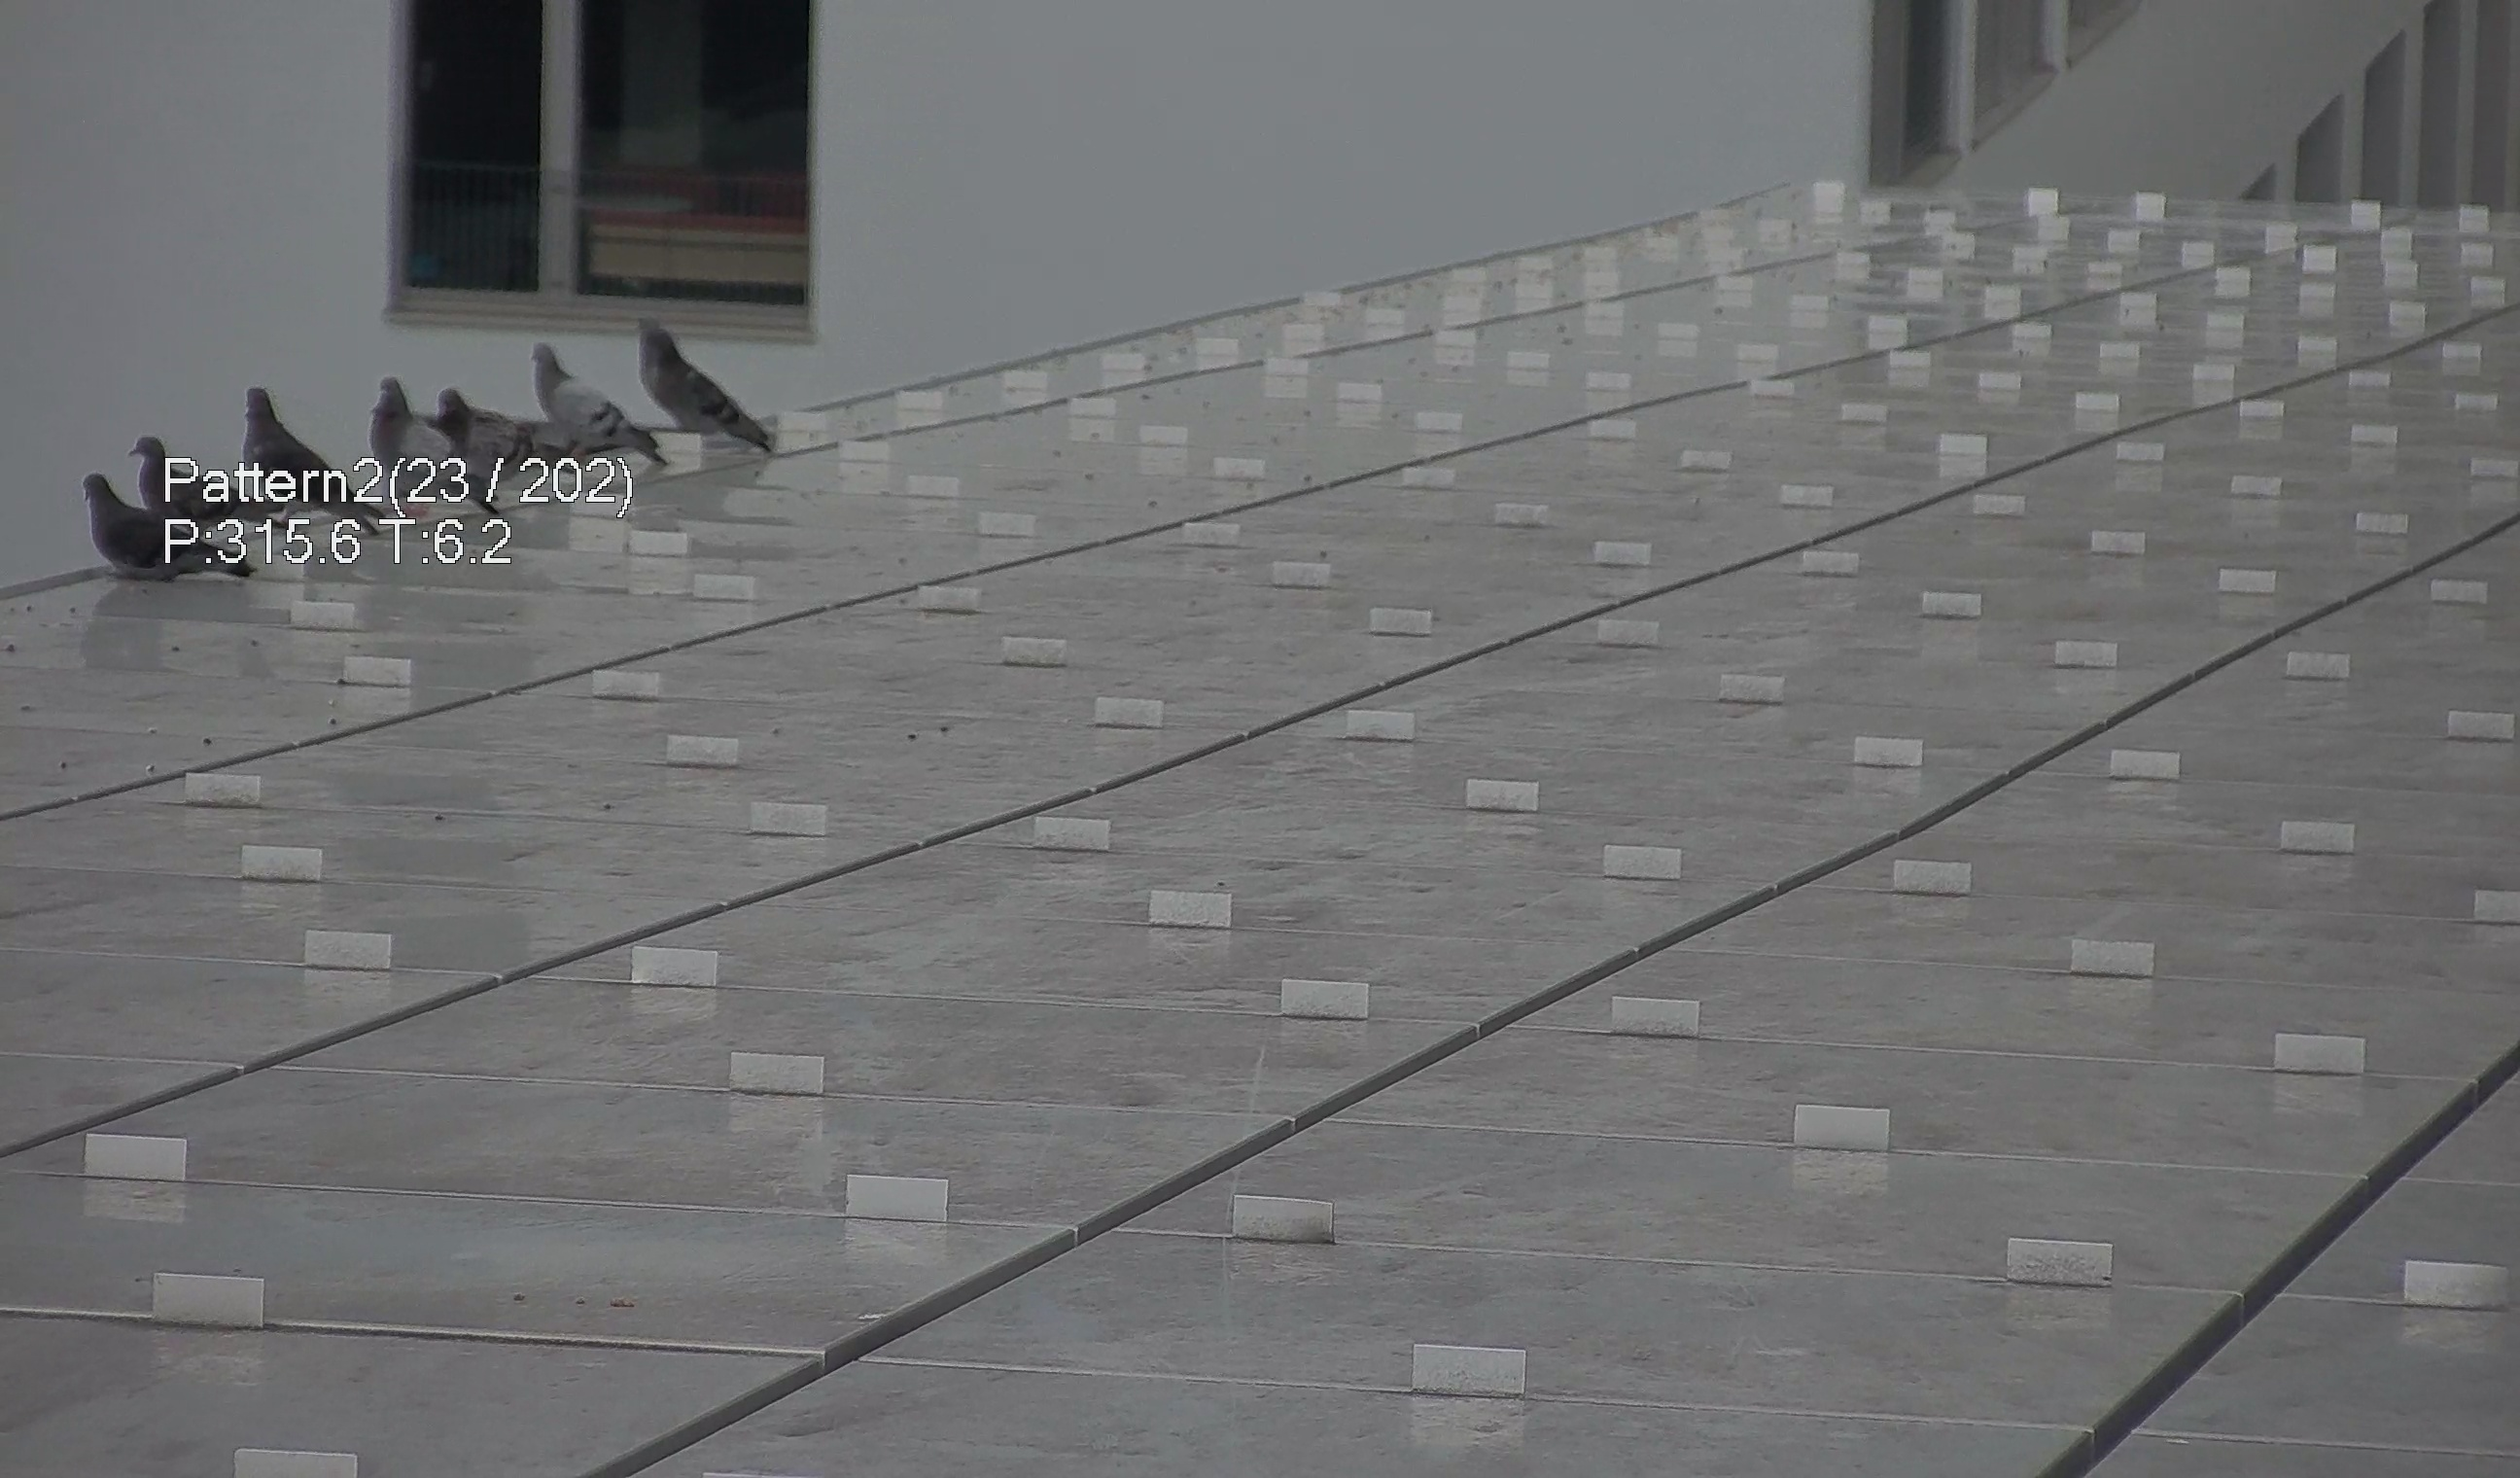Pigeon: (67, 435, 248, 586), (615, 310, 761, 463), (506, 326, 637, 447), (218, 378, 339, 475), (362, 371, 459, 468), (132, 433, 218, 523), (427, 389, 535, 456)
